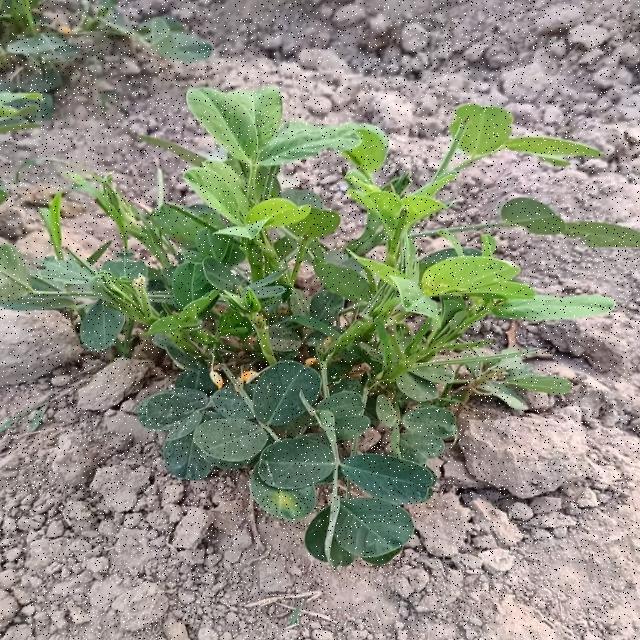plant: (0, 88, 639, 567)
